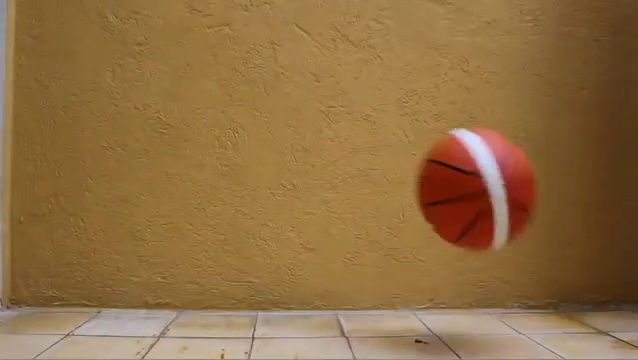ball: (416, 127, 539, 251)
